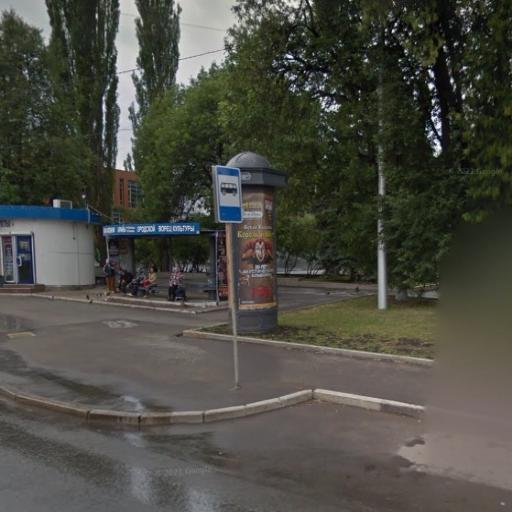traffic_sign: (212, 164, 247, 225)
